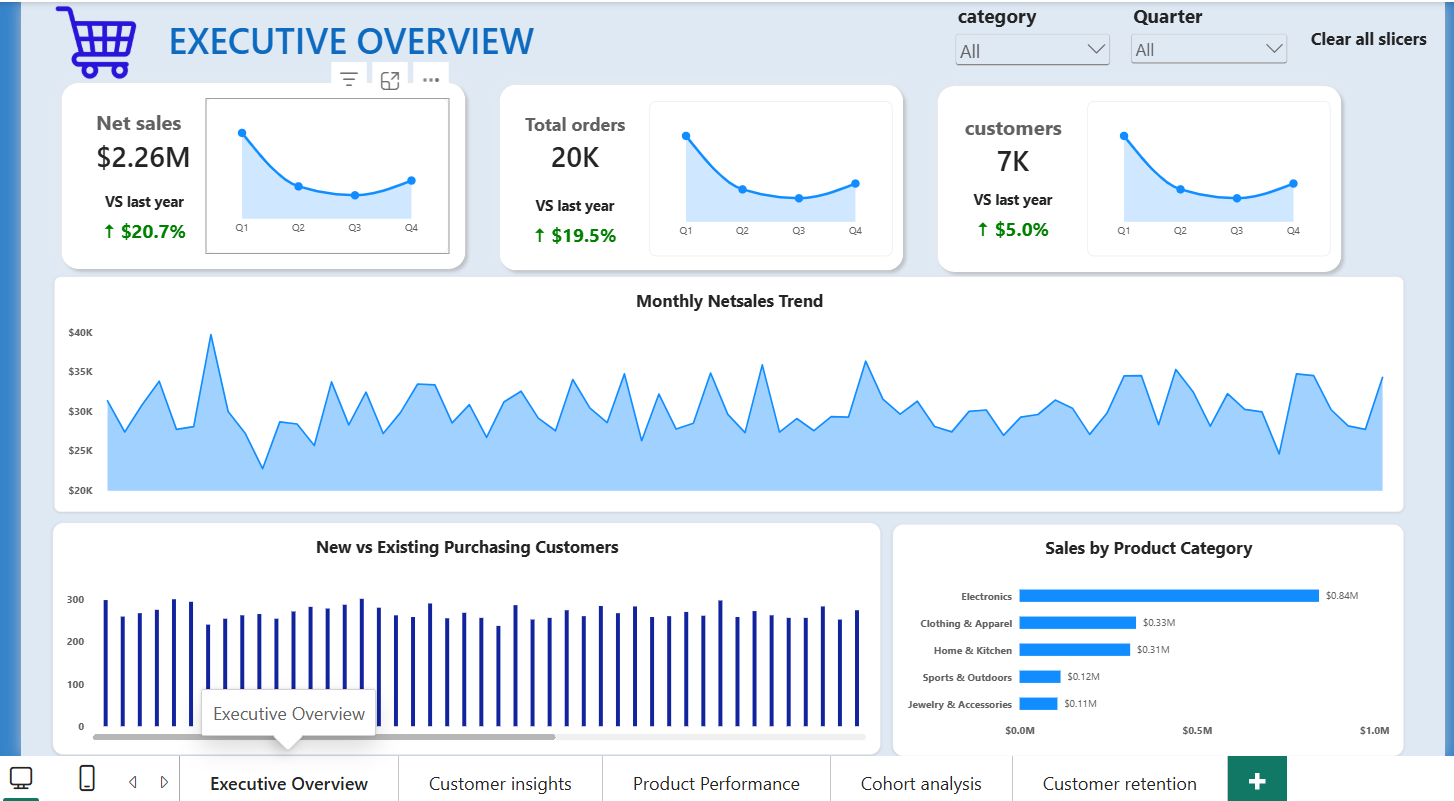

What the dashboard file says about the page in this screenshot:
{"tool":"powerbi","page":{"name":"Executive Overview","canvas":[1700,900],"ordinal":0},"visuals":[{"type":"slicer","fields":{"Values":["Dim_product.category"]},"box":[1109.3,0,195,88.1],"z":0},{"type":"shape","box":[38.5,88.1,500,240],"z":1000},{"type":"cardVisual","fields":{"Data":["_Measures Table.Net sales"]},"box":[73.8,113.1,177.9,109.8],"z":2000},{"type":"slicer","fields":{"Values":["Dim_date.Quarter"]},"box":[1319.1,0,197.1,90.2],"z":3000},{"type":"lineChart","fields":{"Category":["Dim_date.Quarter"],"Y":["_Measures Table.Net sales"]},"box":[221.1,114.5,290.1,185.5],"z":4000},{"type":"shape","title":"VS last year","box":[73.8,224.8,147.6,70],"z":5000},{"type":"shape","box":[1085.5,90.8,500,240],"z":6000},{"type":"lineChart","fields":{"Category":["Dim_date.Quarter"],"Y":["_Measures Table.Net sales"]},"box":[1273,118.4,290.1,185.5],"z":7000},{"type":"shape","box":[562.6,90.3,500,240],"z":8000},{"type":"lineChart","fields":{"Category":["Dim_date.Quarter"],"Y":["_Measures Table.Net sales"]},"box":[750.1,117.9,290.1,185.5],"z":9000},{"type":"cardVisual","fields":{"Data":["_Measures Table.Total orders"]},"box":[572.4,114.5,177.9,109.8],"z":10000},{"type":"shape","title":"VS last year","box":[588.2,230.9,147.6,70],"z":11000},{"type":"cardVisual","fields":{"Data":["_Measures Table.Unique purchasing customers"]},"box":[1095.4,118.4,177.9,109.8],"z":12000},{"type":"shape","title":"VS last year","box":[1109.2,223,147.6,70],"z":13000},{"type":"stackedAreaChart","title":"Monthly Netsales Trend","fields":{"Category":["Dim_date.Year_Month"],"Y":["_Measures Table.Net sales"]},"box":[39.4,327.7,1611.4,281.1],"z":14000},{"type":"clusteredBarChart","title":"Sales by Product Category","fields":{"Category":["orders.category"],"Y":["_Measures Table.Net sales"]},"box":[1039.7,623.4,610.6,277.5],"z":15000},{"type":"clusteredColumnChart","title":"New vs Existing Purchasing Customers","fields":{"Category":["Dim_date.Year_Month"],"Y":["_Measures Table.New Customers","_Measures Table.Existing Purchasing Customers"]},"box":[37.6,621.3,988.3,277.5],"z":16000},{"type":"textbox","box":[37.7,16.8,713,73.4],"z":17000},{"type":"actionButton","box":[1516.2,18.9,184.5,50.3],"z":18000},{"type":"image","box":[16.8,0,146.8,96.5],"z":19000}]}

Visuals, with their boxes on the page's 1700x900 design canvas (x1, y1, x2, y2). These are canvas units, not pixel positions in the 1454x801 screenshot, which may show the page scaled, cropped or inside an application window:
slicer - Dim_product.category: x1=1109 y1=0 x2=1304 y2=88
shape: x1=38 y1=88 x2=538 y2=328
cardVisual - _Measures Table.Net sales: x1=74 y1=113 x2=252 y2=223
slicer - Dim_date.Quarter: x1=1319 y1=0 x2=1516 y2=90
lineChart - Dim_date.Quarter x _Measures Table.Net sales: x1=221 y1=114 x2=511 y2=300
"VS last year" shape: x1=74 y1=225 x2=221 y2=295
shape: x1=1086 y1=91 x2=1586 y2=331
lineChart - Dim_date.Quarter x _Measures Table.Net sales: x1=1273 y1=118 x2=1563 y2=304
shape: x1=563 y1=90 x2=1063 y2=330
lineChart - Dim_date.Quarter x _Measures Table.Net sales: x1=750 y1=118 x2=1040 y2=303
cardVisual - _Measures Table.Total orders: x1=572 y1=114 x2=750 y2=224
"VS last year" shape: x1=588 y1=231 x2=736 y2=301
cardVisual - _Measures Table.Unique purchasing customers: x1=1095 y1=118 x2=1273 y2=228
"VS last year" shape: x1=1109 y1=223 x2=1257 y2=293
"Monthly Netsales Trend" stackedAreaChart: x1=39 y1=328 x2=1651 y2=609
"Sales by Product Category" clusteredBarChart: x1=1040 y1=623 x2=1650 y2=901
"New vs Existing Purchasing Customers" clusteredColumnChart: x1=38 y1=621 x2=1026 y2=899
textbox: x1=38 y1=17 x2=751 y2=90
actionButton: x1=1516 y1=19 x2=1701 y2=69
image: x1=17 y1=0 x2=164 y2=96
